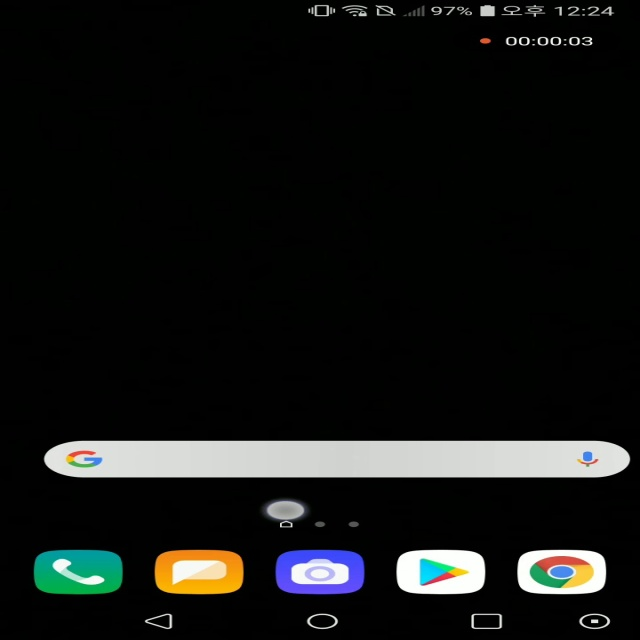Cursor: (264, 500, 309, 522)
